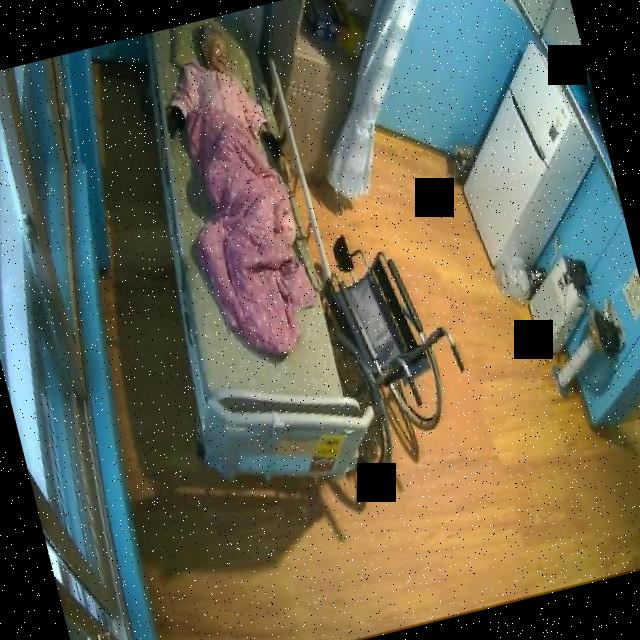bed: (106, 8, 376, 505)
lie: (145, 11, 332, 372)
patient: (146, 14, 284, 184)
